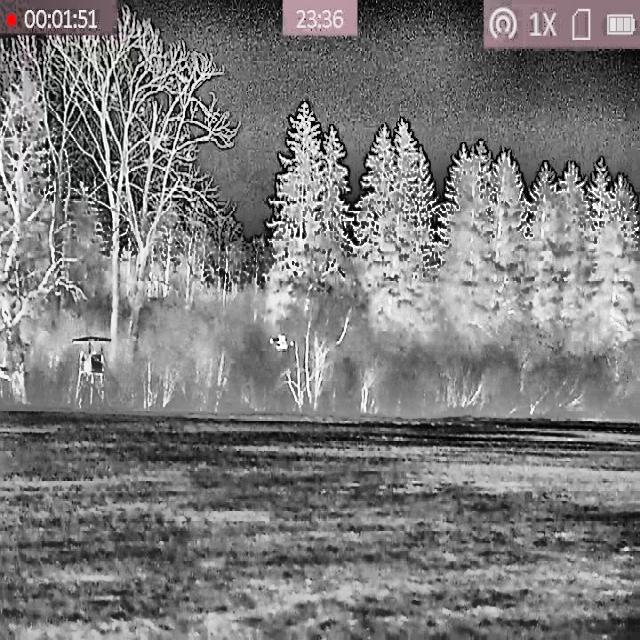drone: (269, 331, 295, 352)
